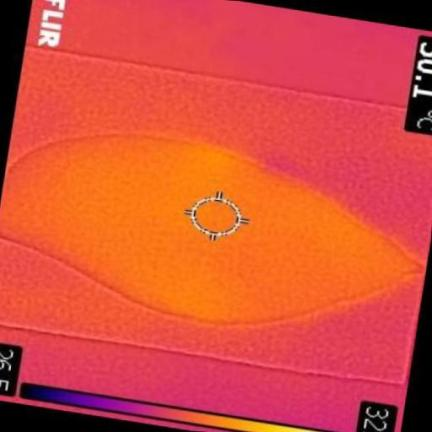mango: (0, 135, 419, 323)
